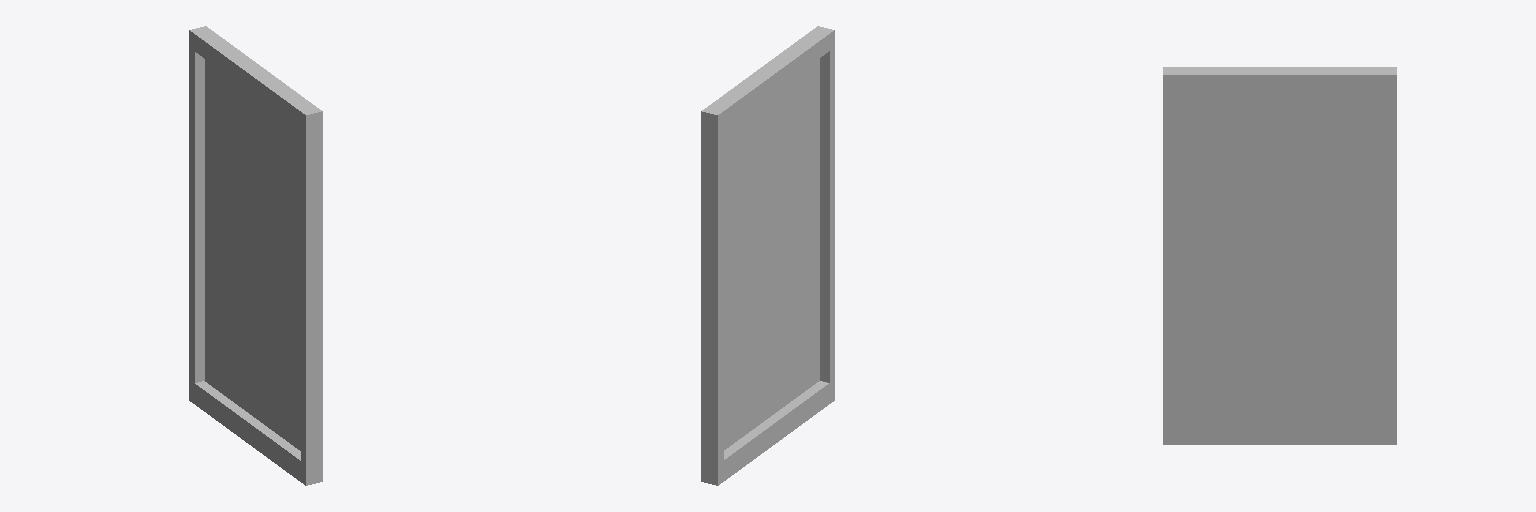
Rendered from painting.obj.
The picture shows the model from 3 angles: view 1: azimuth 30°, elevation 25°; view 2: azimuth 150°, elevation 25°; view 3: azimuth 270°, elevation 25°; orthographic projection.
Visible parts, largest first — view 1: Cube; view 2: Cube; view 3: Cube.
Part boxes in pixels (x1,y1,x2,y2): Cube: (189, 26, 322, 485); Cube: (701, 26, 834, 485); Cube: (1163, 67, 1396, 444).
Size of the model in its own units: 0.4715 by 9.96 by 5.68.